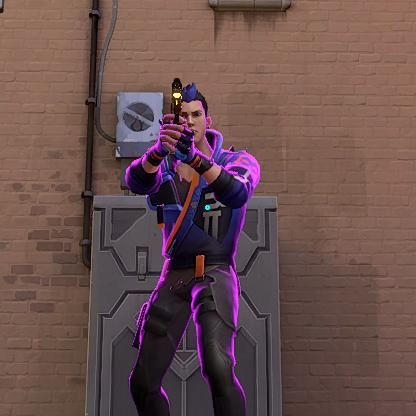enemyBody: (177, 158, 228, 241)
enemyHead: (171, 93, 217, 145)
